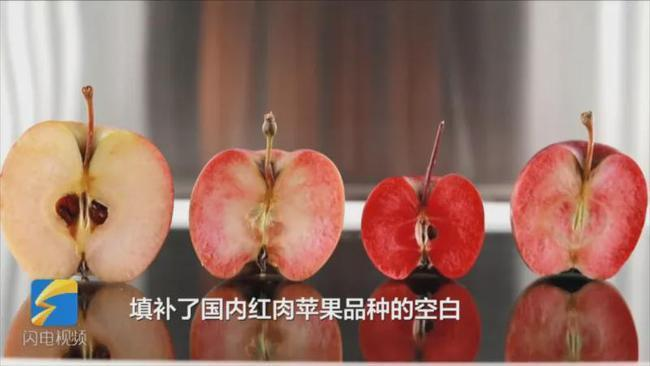apple: (1, 118, 175, 282), (188, 146, 349, 280), (509, 132, 646, 279), (362, 173, 485, 282)
